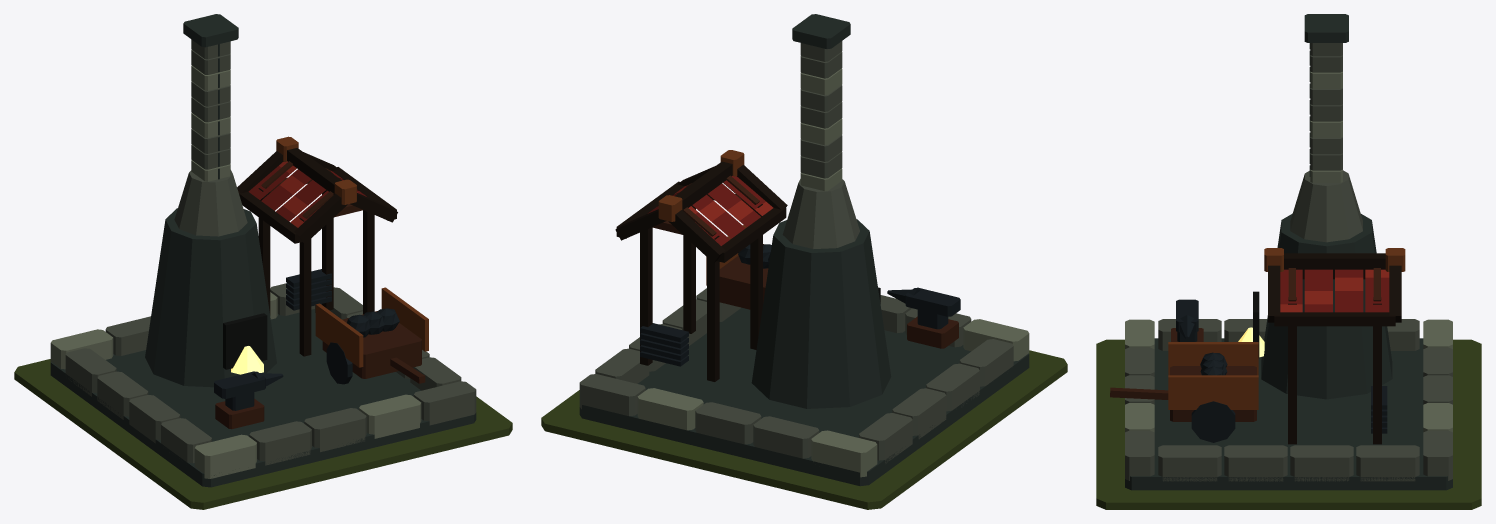
Rendered from smeltery_t5.glb.
The picture shows the model from 3 angles, left to right: view 1: azimuth 30°, elevation 25°; view 2: azimuth 150°, elevation 25°; view 3: azimuth 270°, elevation 25°; orthographic projection. The views are drawn at different scales.
Parts seen in each view (by area): view 1: MMR | smeltery | T05 Architecture.001, MMR | smeltery | Tier 05 Ground.001; view 2: MMR | smeltery | T05 Architecture.001, MMR | smeltery | Tier 05 Ground.001; view 3: MMR | smeltery | T05 Architecture.001, MMR | smeltery | Tier 05 Ground.001.
Part boxes in pixels (left/top/right/bottom): MMR | smeltery | T05 Architecture.001: left=50, top=14, right=476, bottom=487; MMR | smeltery | Tier 05 Ground.001: left=14, top=359, right=512, bottom=509; MMR | smeltery | T05 Architecture.001: left=579, top=14, right=1029, bottom=486; MMR | smeltery | Tier 05 Ground.001: left=541, top=350, right=1067, bottom=509; MMR | smeltery | T05 Architecture.001: left=1110, top=14, right=1452, bottom=490; MMR | smeltery | Tier 05 Ground.001: left=1096, top=339, right=1481, bottom=509.
Bounding box in the file's own units: 2.35 × 2.61 × 2.35.
2 materials, 1 textured.
